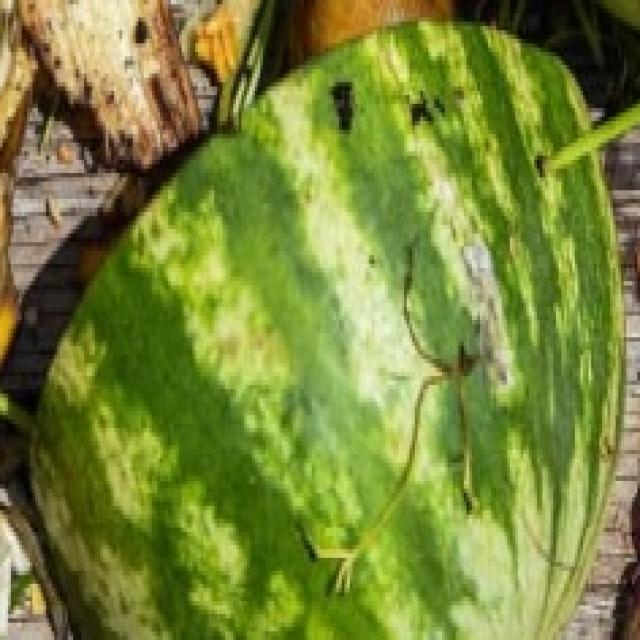food waste: (13, 0, 640, 633)
